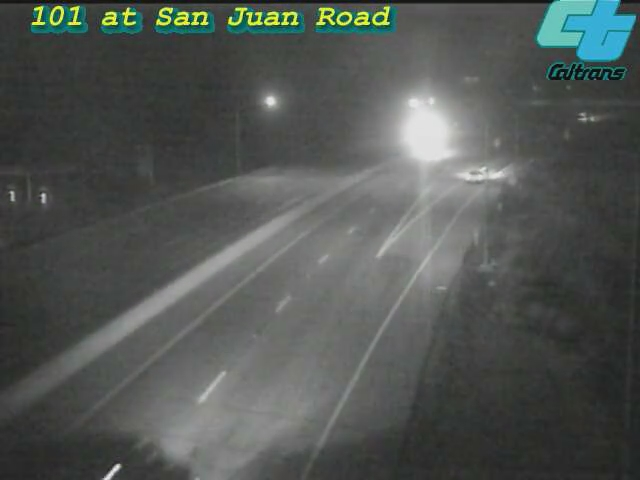vehicle: (52, 414, 162, 480), (434, 138, 514, 218), (395, 106, 445, 156), (560, 92, 610, 142), (419, 125, 469, 175)
